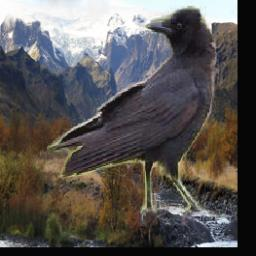Crow: (46, 6, 218, 226)
